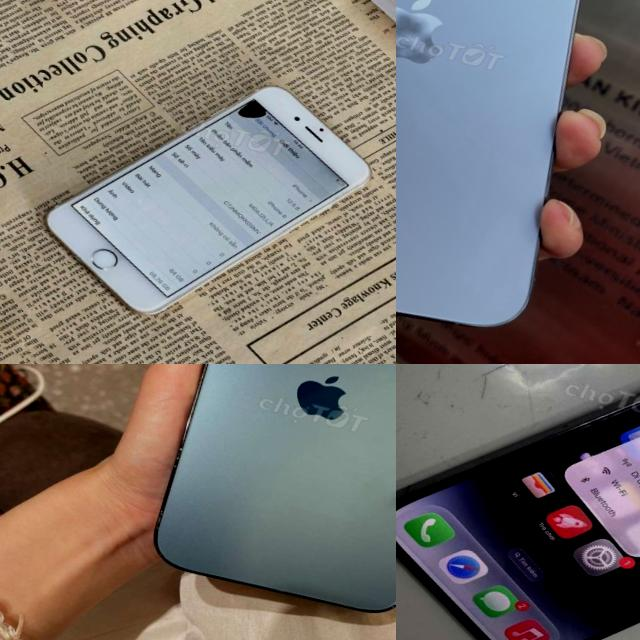gen_12_13: (396, 0, 640, 361), (144, 364, 396, 633)
gen_14: (396, 364, 640, 640)
gen_6: (28, 38, 388, 362)
